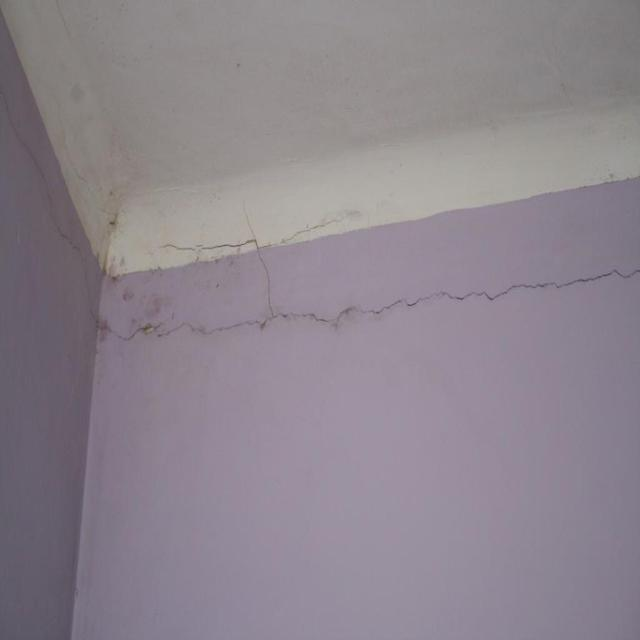crack: (4, 97, 174, 343), (281, 266, 639, 327), (160, 197, 274, 305), (153, 313, 279, 340), (261, 217, 346, 250)
